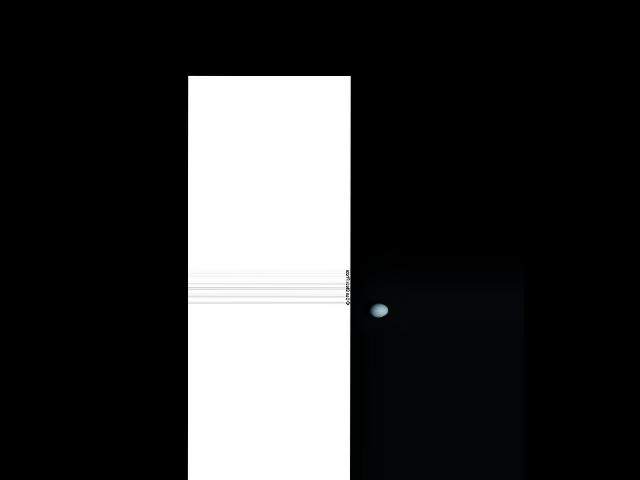egg: (368, 302, 388, 317)
